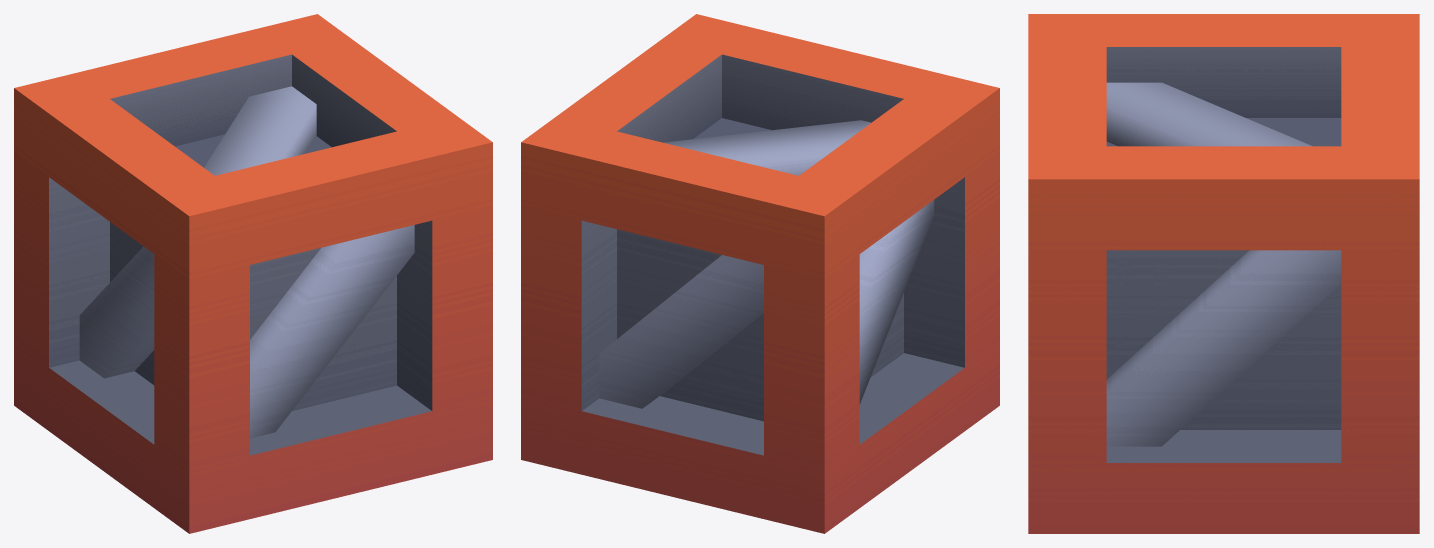
File: crate-color.glb
The picture shows the model from 3 angles, left to right: view 1: azimuth 30°, elevation 25°; view 2: azimuth 150°, elevation 25°; view 3: azimuth 270°, elevation 25°; orthographic projection. The views are drawn at different scales.
Visible parts, largest first — view 1: crate-color-col; view 2: crate-color-col; view 3: crate-color-col.
Part boxes in pixels (left/top/right/bottom): crate-color-col: left=14, top=14, right=492, bottom=533; crate-color-col: left=521, top=14, right=999, bottom=533; crate-color-col: left=1028, top=14, right=1419, bottom=533.
Bounding box in the file's own units: 0.5 × 0.5 × 0.5.
Materials: 1 (1 with a texture image).
